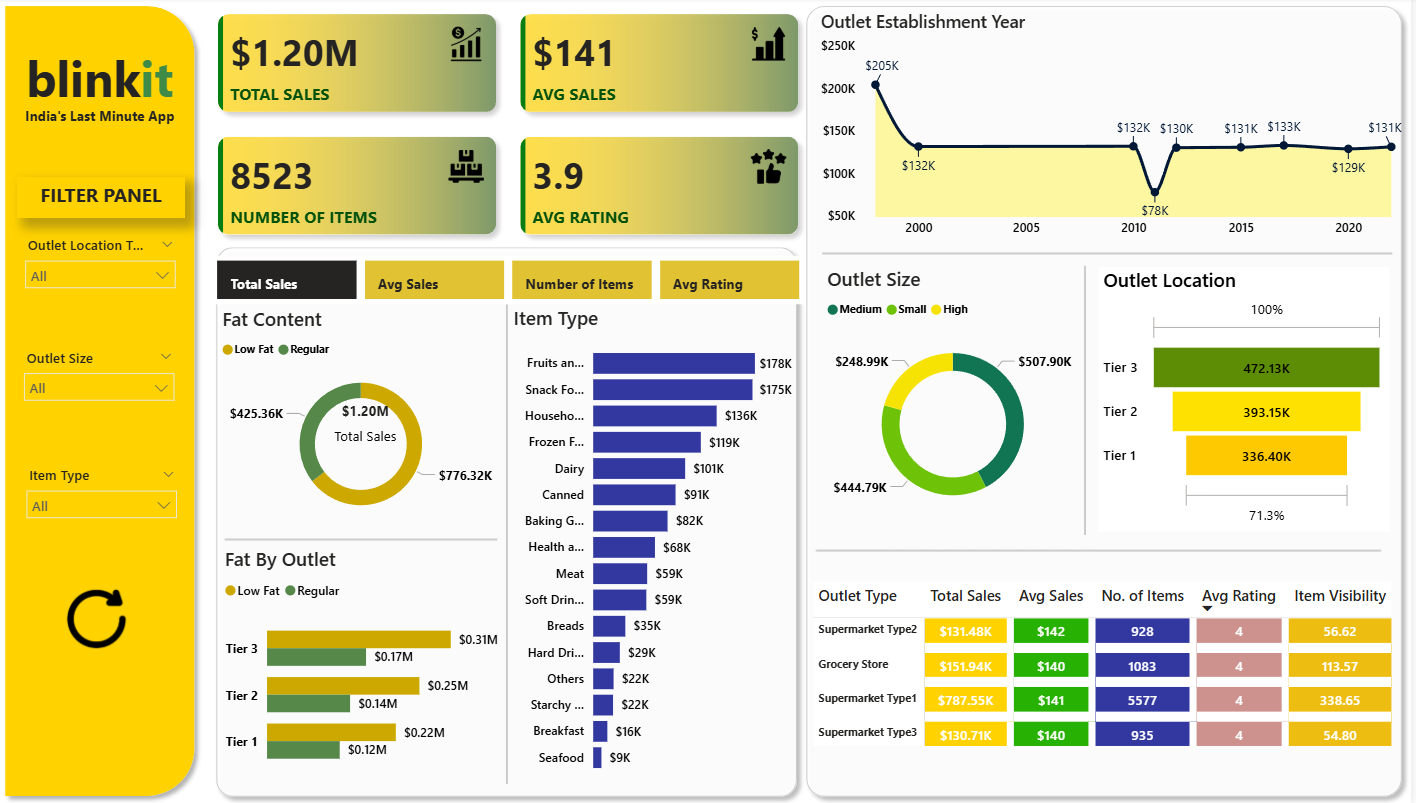

The page's visual inventory and layout, read from the dashboard file:
{"tool":"powerbi","page":{"name":"Page 1","canvas":[1400,800],"ordinal":0},"visuals":[{"type":"shape","box":[0,0,205.3,799.6],"z":0},{"type":"textbox","box":[18.7,42,168,79.3],"z":1000},{"type":"textbox","box":[17.1,104.2,171.1,34.2],"z":2000},{"type":"cardVisual","fields":{"Data":["BlinkIT Grocery Data.Total Sales","BlinkIT Grocery Data.Avg Sales","BlinkIT Grocery Data.Number of Items","BlinkIT Grocery Data.Avg Rating"]},"box":[202.4,0,608.6,253.4],"z":3000},{"type":"shape","box":[209.1,238.6,592.5,561.7],"z":4000},{"type":"donutChart","title":"Fat Content","fields":{"Y":["BlinkIT Grocery Data.Total Sales"],"Category":["BlinkIT Grocery Data.Item Fat Content"]},"box":[218.9,305.5,284.5,221.4],"z":5000},{"type":"advancedSlicerVisual","fields":{"Values":["Metric.Metric"]},"box":[214.5,256,587.1,48.3],"z":6000},{"type":"card","fields":{"Values":["BlinkIT Grocery Data.Total Sales"]},"box":[321.7,390.1,88.5,61.7],"z":7000},{"type":"clusteredBarChart","title":" Fat By Outlet ","fields":{"Y":["BlinkIT Grocery Data.Total Sales"],"Category":["BlinkIT Grocery Data.Outlet Location Type"],"Series":["BlinkIT Grocery Data.Item Fat Content"]},"box":[221.4,543,282,236.2],"z":8000},{"type":"shape","box":[226.3,531.9,269.6,9.9],"z":9000},{"type":"shape","box":[493.3,304.3,24.1,474.5],"z":10000},{"type":"barChart","title":"Item Type","fields":{"Y":["BlinkIT Grocery Data.Total Sales"],"Category":["BlinkIT Grocery Data.Item Type"]},"box":[506.7,304.3,285.5,474.5],"z":11000},{"type":"shape","box":[792.2,0,607.2,800.3],"z":12000},{"type":"lineChart","title":" Outlet Establishment Year","fields":{"Category":["BlinkIT Grocery Data.Outlet Establishment Year"],"Y":["BlinkIT Grocery Data.Total Sales"]},"box":[811,12.1,588.5,234.6],"z":13000},{"type":"shape","box":[817.7,250.7,564.3,5.4],"z":14000},{"type":"donutChart","title":"Outlet Size","fields":{"Y":["BlinkIT Grocery Data.Total Sales"],"Category":["BlinkIT Grocery Data.Outlet Size"]},"box":[817.7,265.4,258.7,261.4],"z":15000},{"type":"shape","box":[1065.7,265.4,22.8,266.8],"z":16000},{"type":"funnel","title":" Outlet Location ","fields":{"Y":["Sum(BlinkIT Grocery Data.Sales)"],"Category":["BlinkIT Grocery Data.Outlet Location Type"]},"box":[1091.2,266.8,288.2,261.4],"z":17000},{"type":"pivotTable","fields":{"Rows":["BlinkIT Grocery Data.Outlet Type"],"Values":["BlinkIT Grocery Data.Total Sales","BlinkIT Grocery Data.Avg Sales","BlinkIT Grocery Data.Number of Items","BlinkIT Grocery Data.Avg Rating","Sum(BlinkIT Grocery Data.Item Visibility)"]},"box":[804.3,573.7,592.5,194.4],"z":18000},{"type":"shape","box":[811,541.6,559,12.1],"z":19000},{"type":"slicer","fields":{"Values":["BlinkIT Grocery Data.Outlet Location Type"]},"box":[18.8,231.9,168.9,68.4],"z":20000},{"type":"slicer","fields":{"Values":["BlinkIT Grocery Data.Outlet Size"]},"box":[17.4,343.2,168.9,68.4],"z":21000},{"type":"slicer","fields":{"Values":["BlinkIT Grocery Data.Item Type"]},"box":[20.1,458.4,168.9,68.4],"z":22000},{"type":"textbox","box":[20.5,178.3,165.7,41],"z":23000},{"type":"actionButton","box":[59,574.2,86.5,81.3],"z":23001}]}

Visuals, with their boxes in screenshot pixels (x1, y1, x2, y2), scaled from the page's 1400x800 canvas onto the 1416x803 screenshot:
shape: detection(0, 0, 208, 802)
textbox: detection(19, 42, 189, 122)
textbox: detection(17, 105, 190, 139)
cardVisual - BlinkIT Grocery Data.Total Sales x BlinkIT Grocery Data.Avg Sales: detection(205, 0, 820, 254)
shape: detection(211, 239, 811, 802)
"Fat Content" donutChart: detection(221, 307, 509, 529)
advancedSlicerVisual - Metric.Metric: detection(217, 257, 811, 305)
card - BlinkIT Grocery Data.Total Sales: detection(325, 392, 415, 453)
" Fat By Outlet " clusteredBarChart: detection(224, 545, 509, 782)
shape: detection(229, 534, 502, 544)
shape: detection(499, 305, 523, 782)
"Item Type" barChart: detection(512, 305, 801, 782)
shape: detection(801, 0, 1415, 802)
" Outlet Establishment Year" lineChart: detection(820, 12, 1415, 248)
shape: detection(827, 252, 1398, 257)
"Outlet Size" donutChart: detection(827, 266, 1089, 529)
shape: detection(1078, 266, 1101, 534)
" Outlet Location " funnel: detection(1104, 268, 1395, 530)
pivotTable - BlinkIT Grocery Data.Outlet Type x BlinkIT Grocery Data.Total Sales: detection(813, 576, 1413, 771)
shape: detection(820, 544, 1386, 556)
slicer - BlinkIT Grocery Data.Outlet Location Type: detection(19, 233, 190, 301)
slicer - BlinkIT Grocery Data.Outlet Size: detection(18, 344, 188, 413)
slicer - BlinkIT Grocery Data.Item Type: detection(20, 460, 191, 529)
textbox: detection(21, 179, 188, 220)
actionButton: detection(60, 576, 147, 658)
